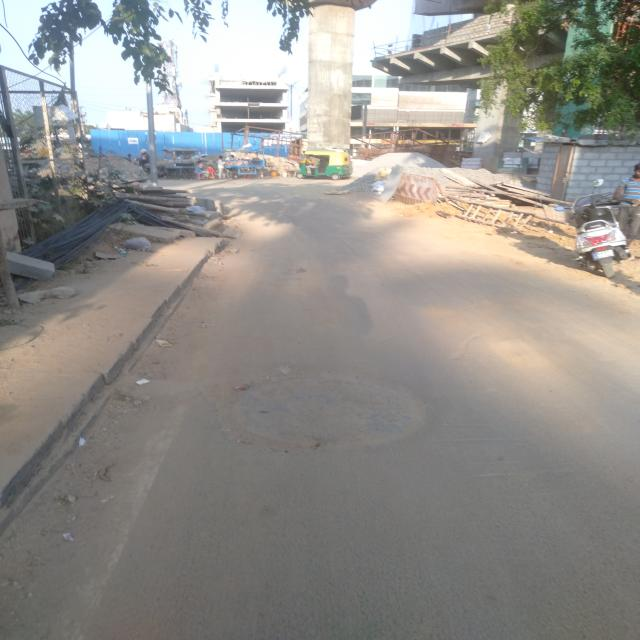Autorickshaw: (296, 150, 356, 181)
Bike: (554, 178, 640, 283), (128, 151, 158, 175)
